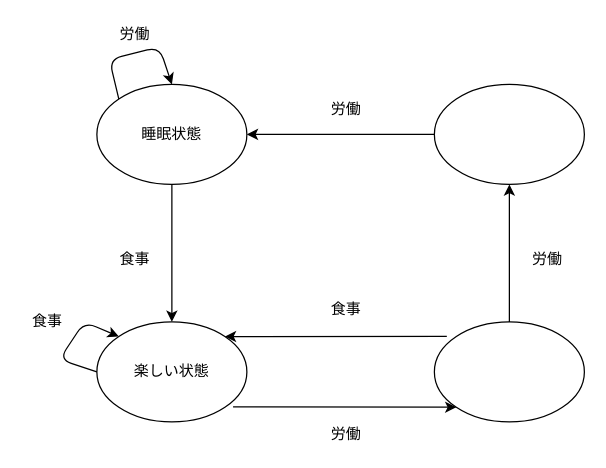
Some shapes in this 606 by 468 pixel diagram are drawn without their labels. The shapes that lost their labels are listed below. From the top down, each one's centre as x and y in pixels, then its label:
At (x=508, y=133): "いらいら状態".
At (x=508, y=371): "普通状態".
